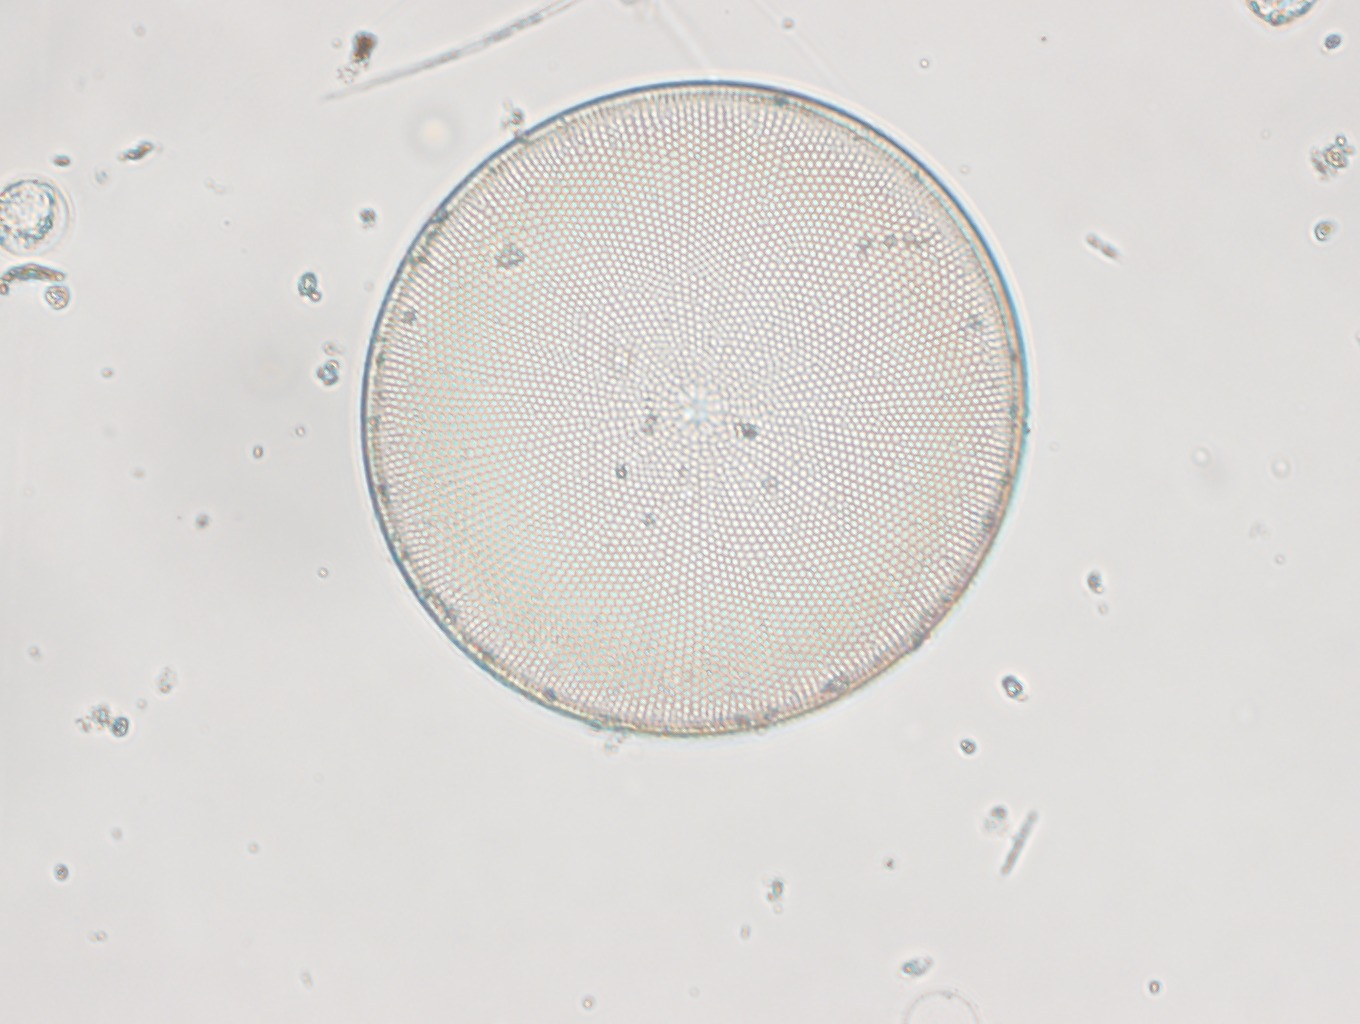coscinodiscus: (360, 77, 1031, 739)
